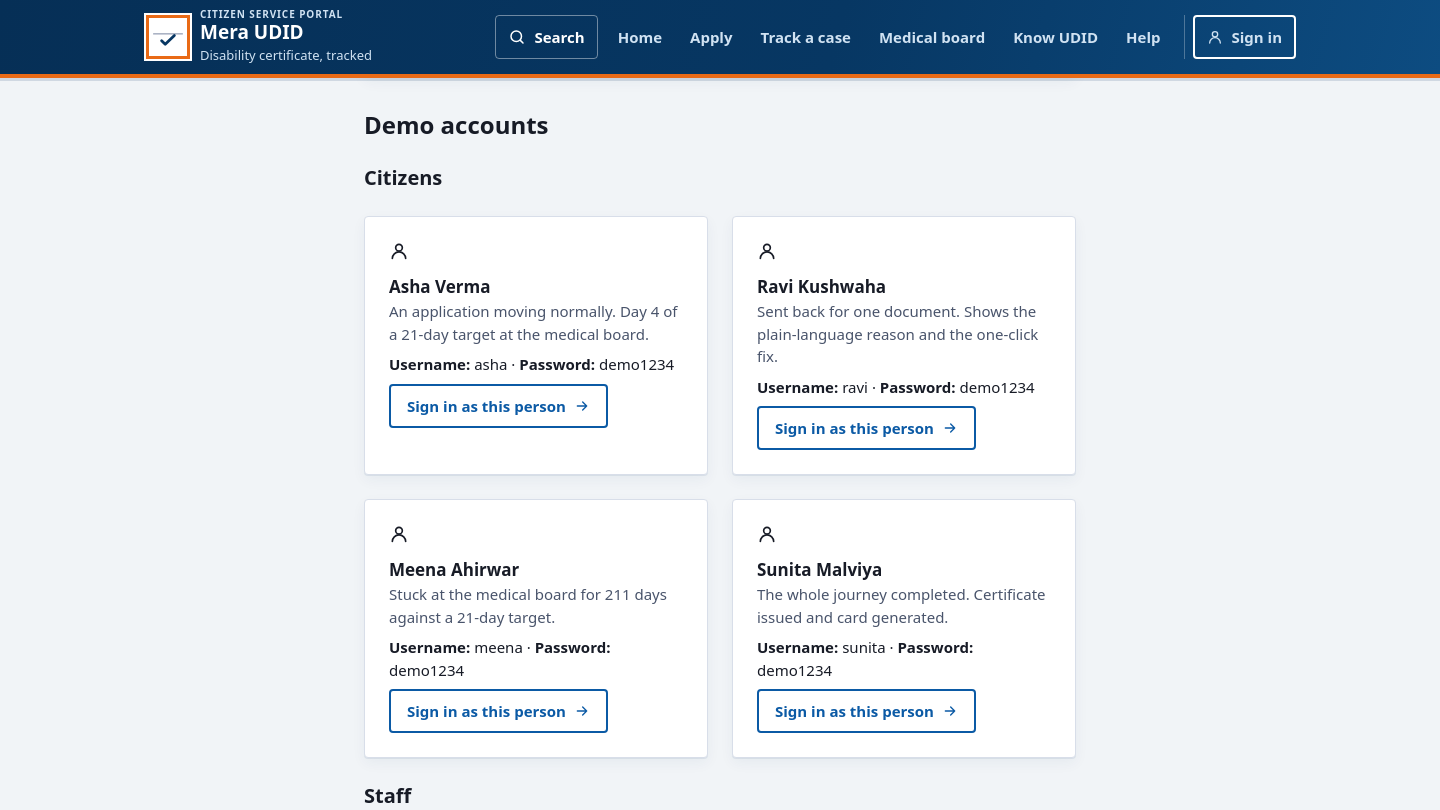
demo sign-in › signs a judge in with one click, without typing anything
(page scrolled)
# The first citizen card is Asha Verma, whose case is moving normally.
Step 1. Click the button "Sign in as this person" below "Asha Verma" → (498, 406), box [389,384,608,428]
(page scrolled)
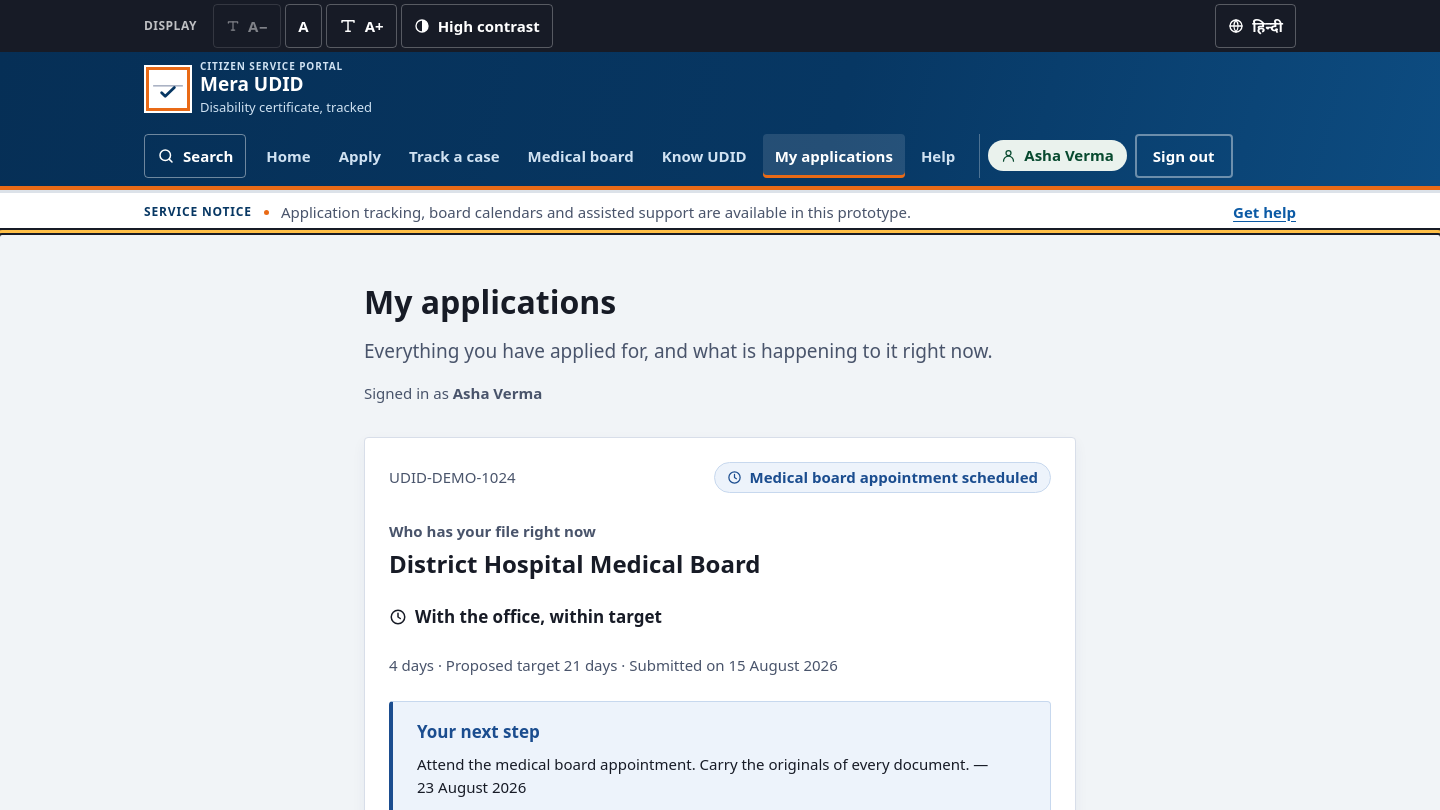
Expected: the heading "My applications" is shown, [364,280,616,323]
Expected: the text "UDID-DEMO-1024" is shown, [389,467,516,487]
